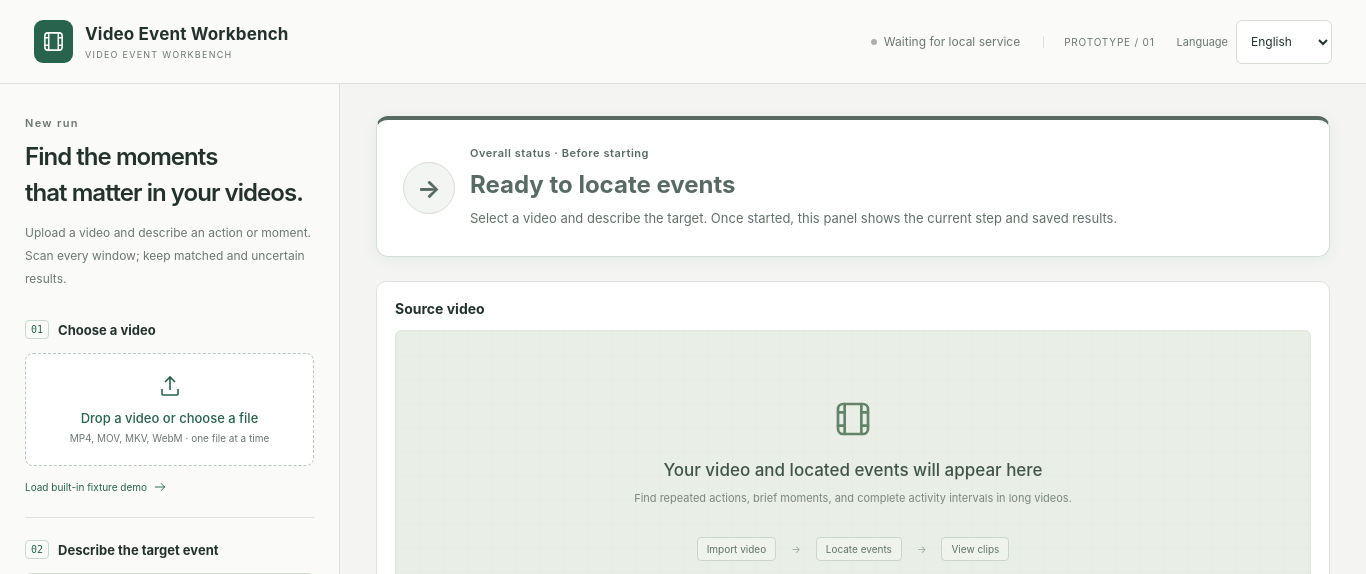
application language selection › relocalizes an existing product error prefix without replacing its original cause
Click the button "Load built-in fixture demo": (96, 487) [25,479,167,495]
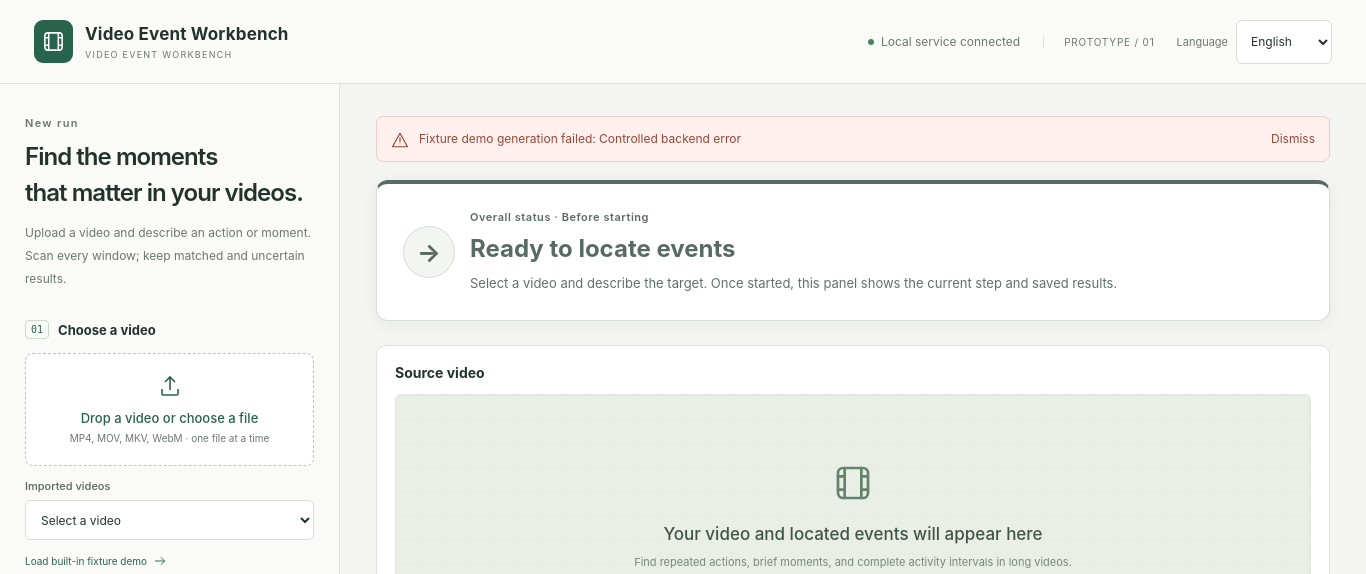
Result: the text "Fixture demo generation failed: Controlled backend error" is shown at [419,129,741,149]
Select "中文" in the dropdown labelled "Language": (1284, 42) [1236,20,1332,64]
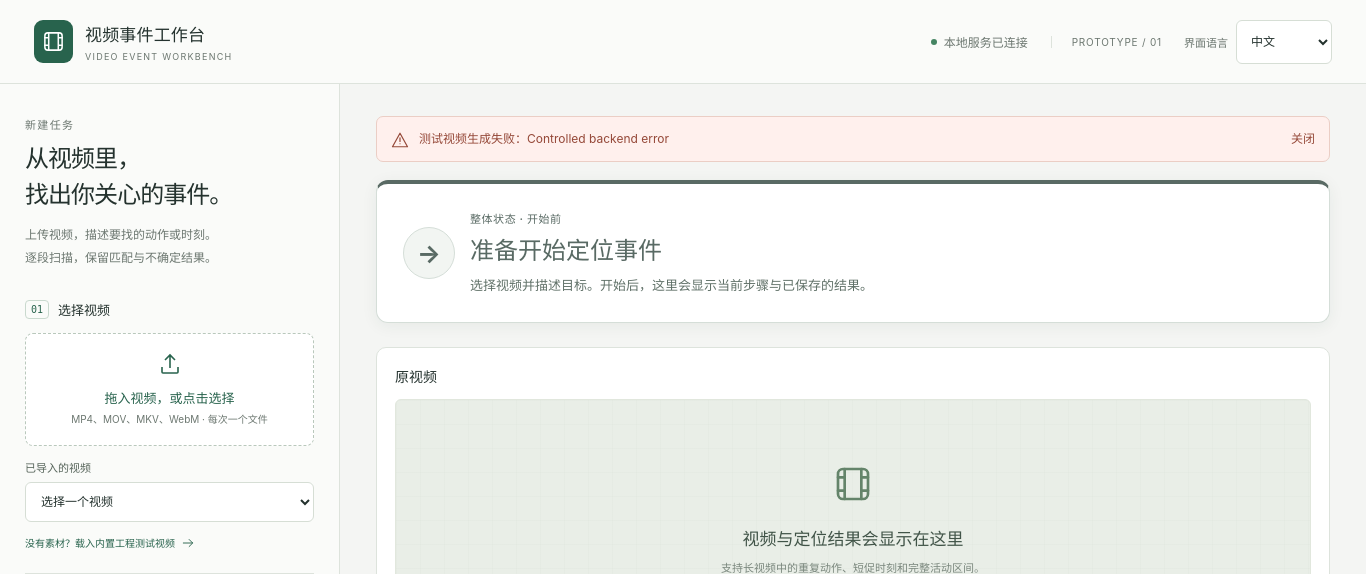
Result: the text "测试视频生成失败：Controlled backend error" is shown at [419,129,669,149]
